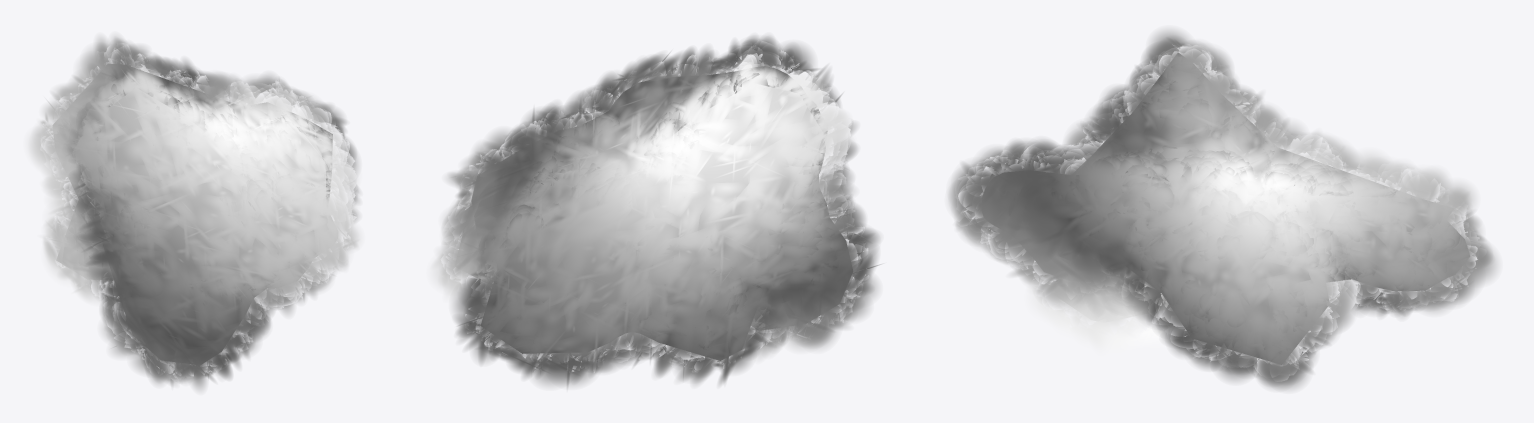
The model's file is CloudTestglb.glb.
3 renders of one model, left to right at view 1: azimuth 30°, elevation 25°; view 2: azimuth 150°, elevation 25°; view 3: azimuth 270°, elevation 25°, orthographic. The views are drawn at different scales.
Visible parts, largest first — view 1: Cloudbody.001, Cloudbody; view 2: Cloudbody.001, Cloudbody; view 3: Cloudbody.001, Cloudbody.
Part boxes in pixels (left/top/right/bottom): Cloudbody.001: left=27, top=35, right=361, bottom=391; Cloudbody: left=52, top=64, right=333, bottom=363; Cloudbody.001: left=430, top=35, right=880, bottom=389; Cloudbody: left=456, top=66, right=851, bottom=360; Cloudbody.001: left=948, top=29, right=1498, bottom=390; Cloudbody: left=983, top=53, right=1469, bottom=361.
Size of the model in its own units: 10.72 by 9.29 by 15.55.
2 materials, 1 textured.
